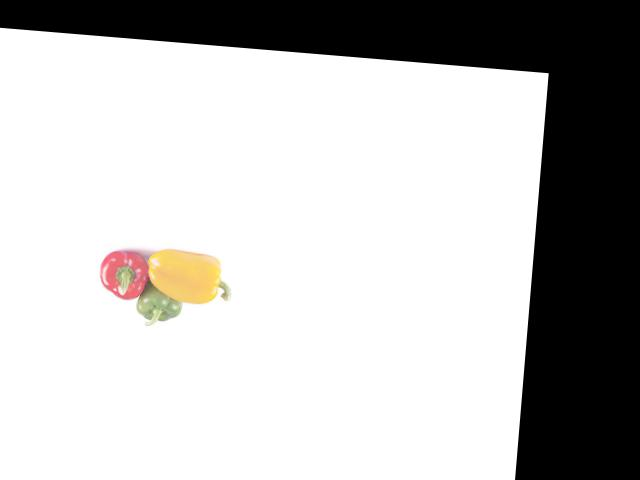bell_pepper: (130, 278, 188, 329)
